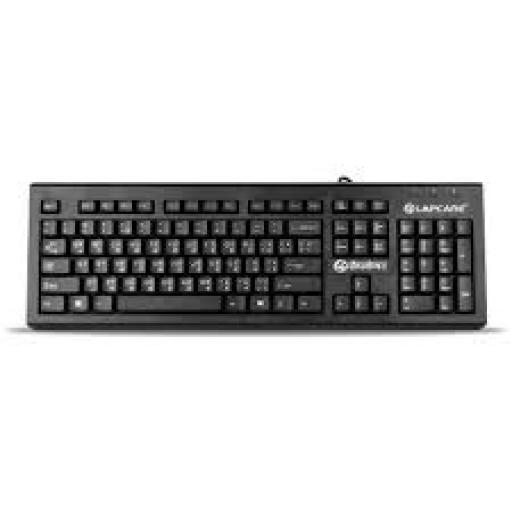KEYBOARD-2: (30, 182, 485, 328)
